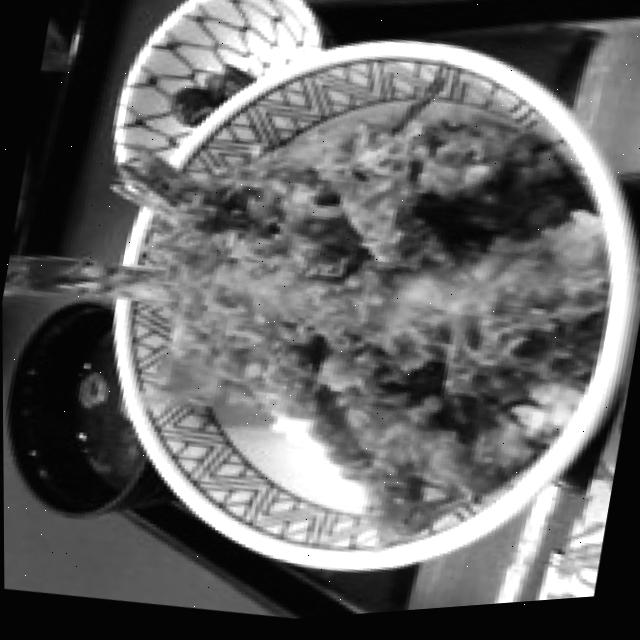汤锅炖物: (162, 0, 459, 130)
熟制海鲜: (48, 0, 640, 519)
